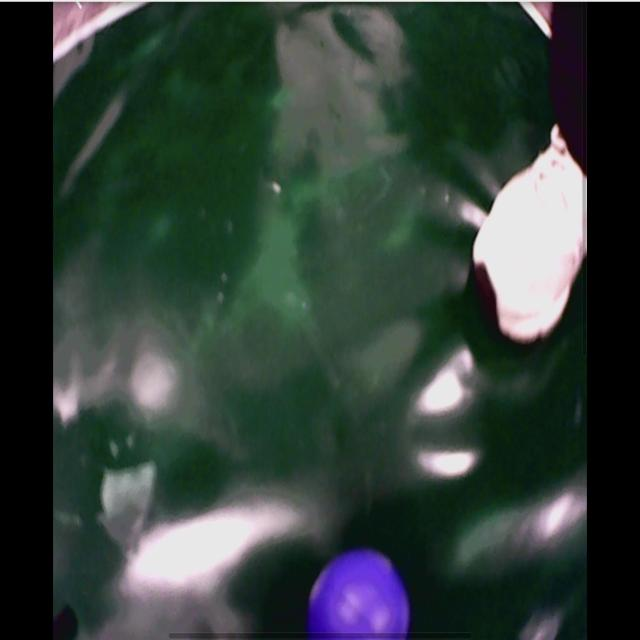ball: (310, 552, 412, 640)
